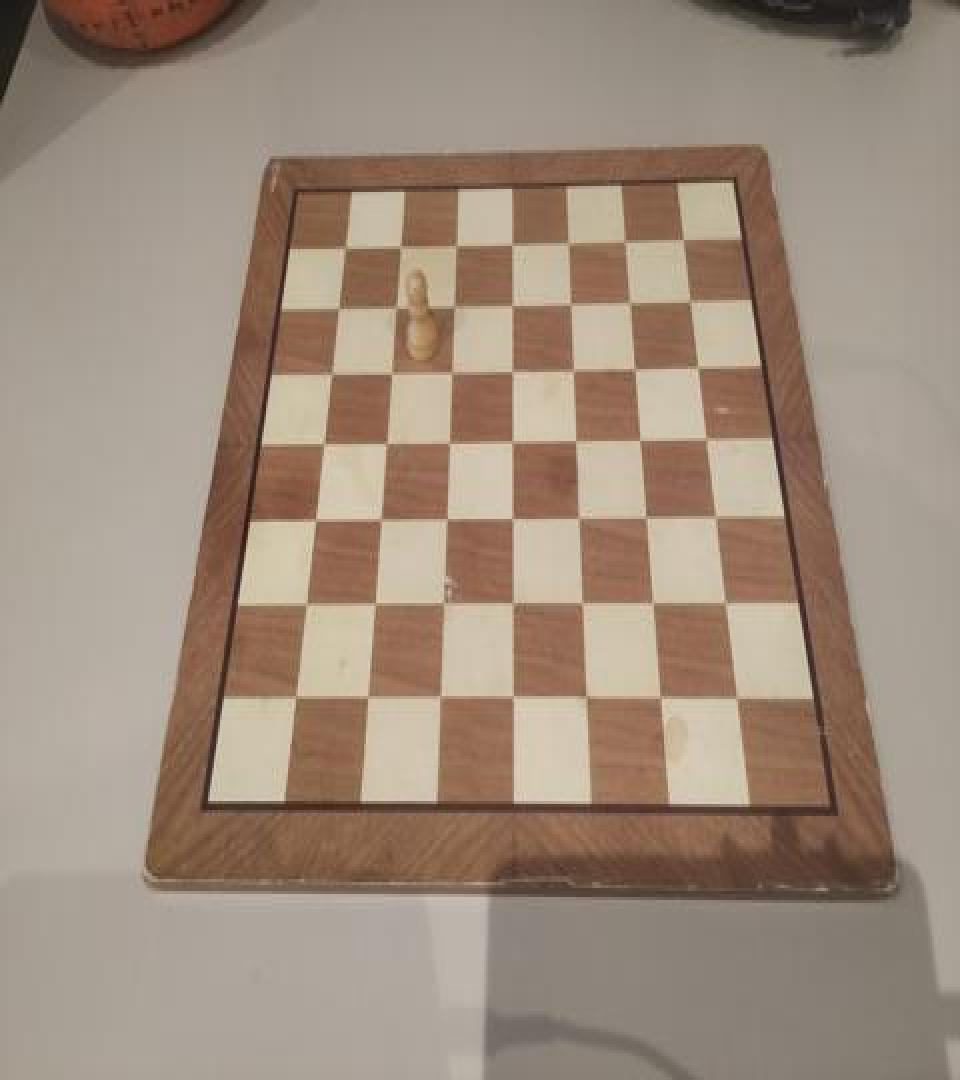xcorner: (615, 223, 635, 254), (285, 687, 305, 717), (356, 687, 376, 717), (650, 690, 670, 720), (725, 690, 745, 720), (295, 594, 315, 624), (363, 594, 383, 624), (432, 594, 452, 624), (501, 594, 521, 624), (572, 594, 592, 624), (643, 592, 663, 622), (715, 592, 735, 622), (304, 508, 324, 538), (369, 508, 389, 538), (435, 507, 455, 537), (501, 507, 521, 537), (568, 507, 588, 537), (636, 506, 656, 536), (705, 506, 725, 536), (312, 430, 332, 460), (374, 429, 394, 459), (437, 429, 457, 459), (501, 428, 521, 458), (565, 428, 585, 458), (630, 426, 650, 456), (696, 424, 716, 454), (320, 358, 340, 388), (379, 357, 399, 387), (440, 357, 460, 387), (501, 356, 521, 386), (563, 354, 583, 384), (625, 352, 645, 382), (688, 351, 708, 381), (327, 292, 347, 322), (384, 291, 404, 321), (442, 290, 462, 320), (501, 288, 521, 318), (560, 286, 580, 316), (620, 285, 640, 315), (680, 284, 700, 314), (333, 231, 353, 261), (388, 230, 408, 260), (444, 228, 464, 258), (501, 226, 521, 256), (558, 225, 578, 255), (673, 222, 693, 252), (428, 689, 448, 718), (501, 689, 521, 718), (575, 689, 595, 718)
